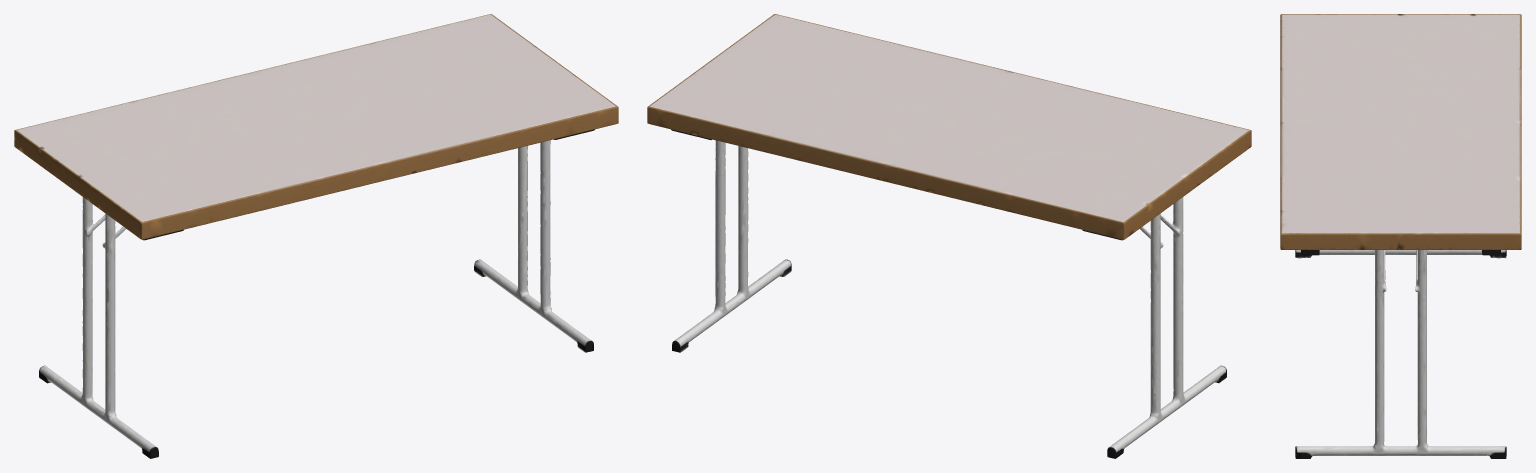
The model's file is dalemans-tisch-310-low.glb.
The picture shows the model from 3 angles, left to right: view 1: azimuth 30°, elevation 25°; view 2: azimuth 150°, elevation 25°; view 3: azimuth 270°, elevation 25°; orthographic projection. The views are drawn at different scales.
Parts seen in each view (by area): view 1: Mesh_0; view 2: Mesh_0; view 3: Mesh_0.
Boxes of the visible parts, box(x1,y1,x2,y2) form: Mesh_0: box(14, 14, 618, 458); Mesh_0: box(647, 14, 1251, 458); Mesh_0: box(1280, 14, 1521, 458).
Size of the model in its own units: 1.9 by 0.9357 by 0.8791.
1 material, 1 textured.
